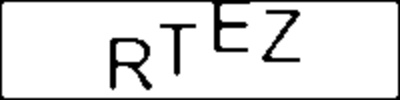E: (209, 1, 253, 55)
R: (105, 34, 157, 92)
T: (156, 21, 199, 77)
Z: (260, 7, 305, 66)
